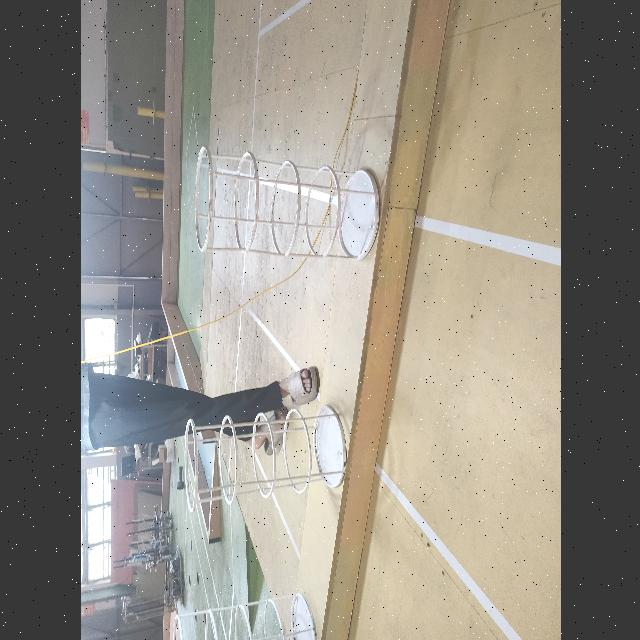S: (190, 144, 380, 266), (182, 406, 348, 512), (170, 594, 316, 640)
